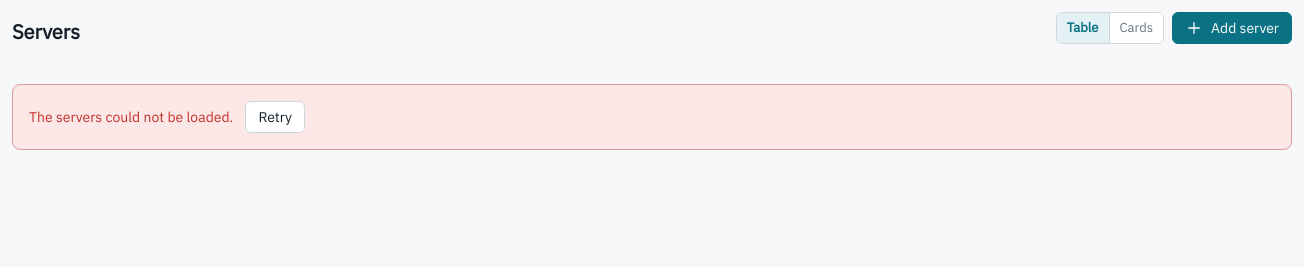
it: Servers › shows the first-load error and retries
Check: the text "The servers could not be loaded." is shown, box [29, 107, 233, 127]
Click the button "Retry" at (275, 117), box [245, 101, 305, 133]
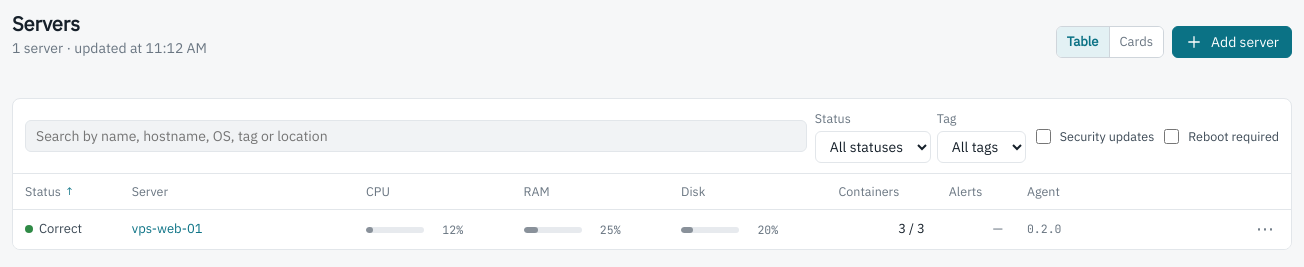
Check: the link "vps-web-01" is shown, box [132, 220, 202, 237]
